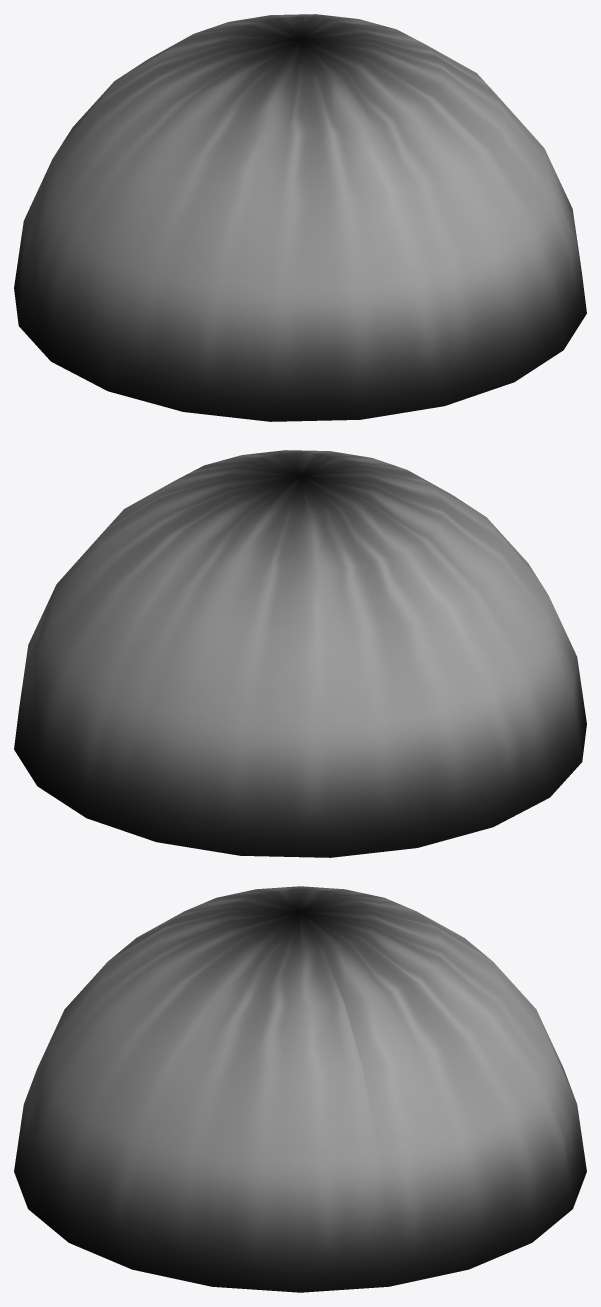
The model's file is hemisphere_aura.fbx.
3 views of the same model, one above another, from view 1: azimuth 30°, elevation 25°; view 2: azimuth 150°, elevation 25°; view 3: azimuth 270°, elevation 25° (orthographic).
Visible parts, largest first — view 1: hemisphere_aura; view 2: hemisphere_aura; view 3: hemisphere_aura.
Part boxes in pixels (x1=…): hemisphere_aura: x1=14, y1=14, x2=586, y2=421; hemisphere_aura: x1=14, y1=450, x2=586, y2=857; hemisphere_aura: x1=14, y1=886, x2=586, y2=1292.
Bounding box in the file's own units: 25 × 12.5 × 25.
